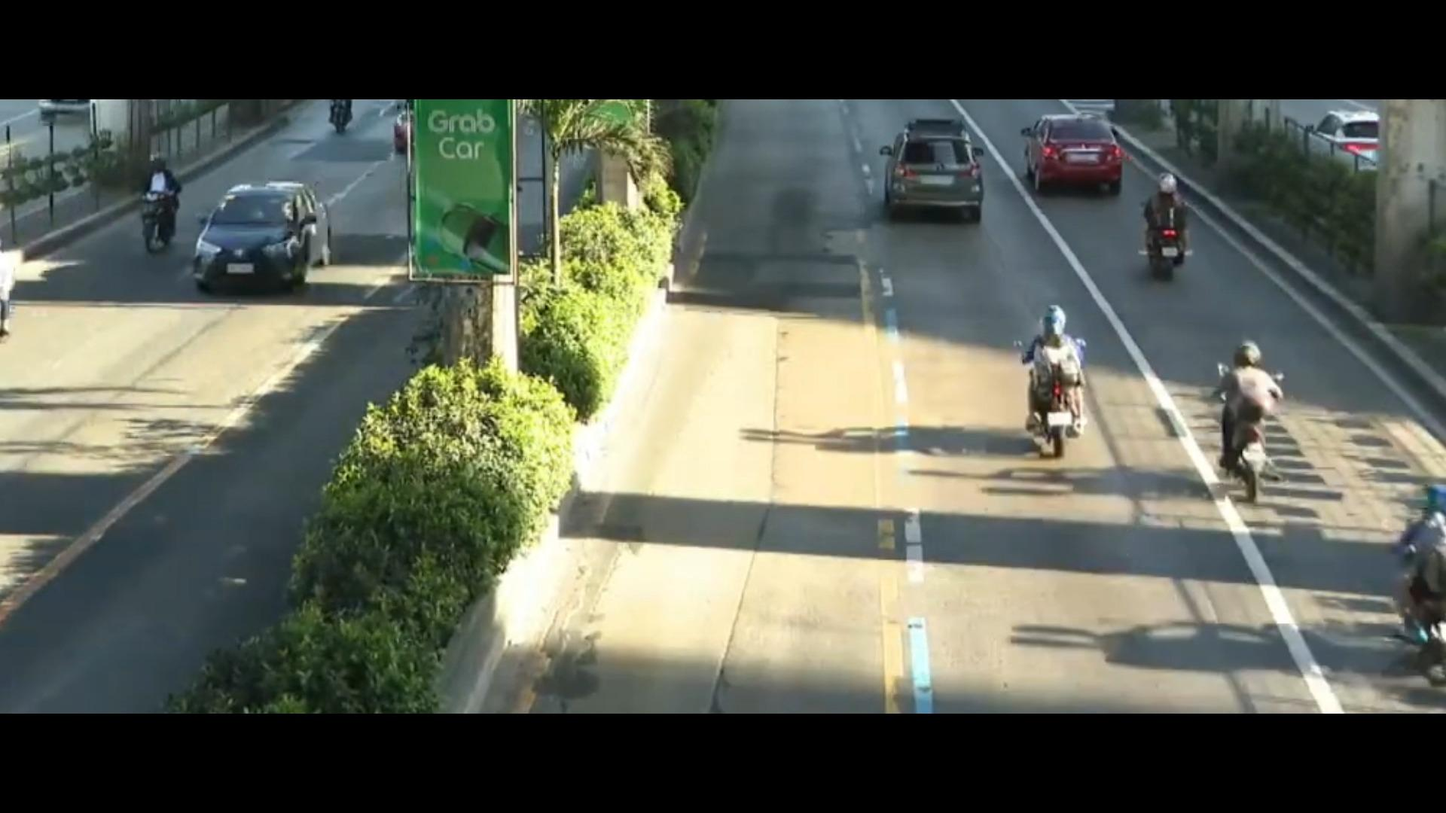Motorcycle: (1179, 330, 1308, 517), (985, 307, 1117, 473), (1382, 469, 1446, 667), (1140, 160, 1224, 283), (125, 145, 191, 246)
SUV: (873, 111, 1004, 240)
Sedan: (197, 183, 334, 306), (1021, 106, 1141, 199)
